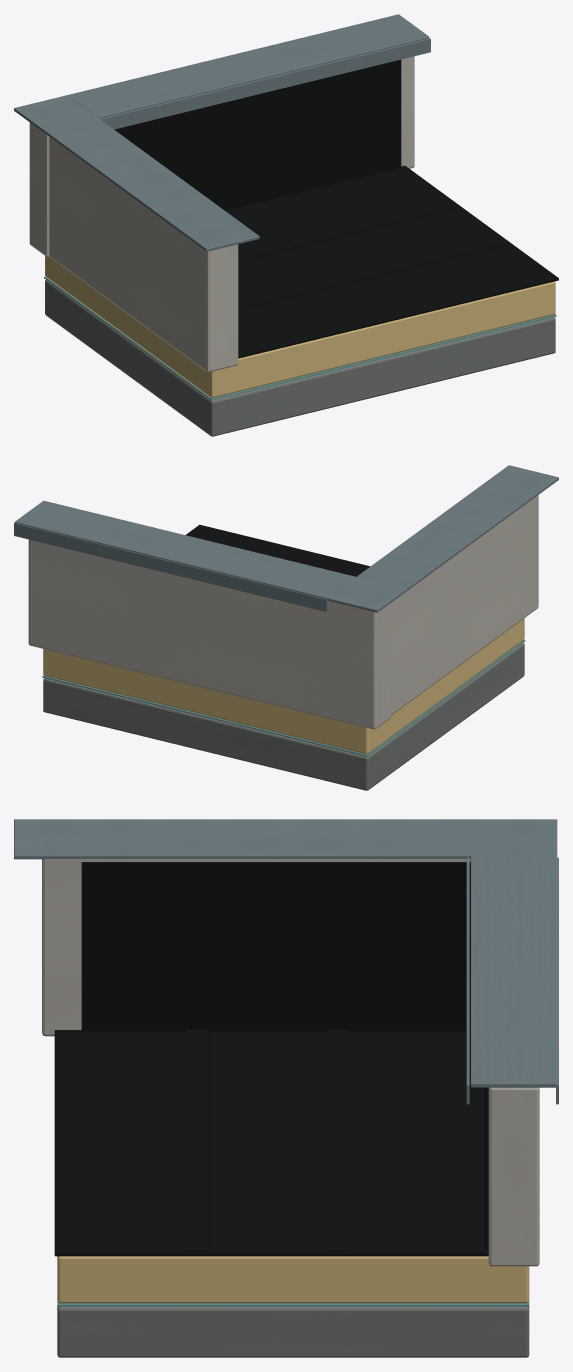
File: modell.glb
3 renders of one model, top to bottom at view 1: azimuth 30°, elevation 25°; view 2: azimuth 150°, elevation 25°; view 3: azimuth 270°, elevation 25°, orthographic. The views are drawn at different scales.
Parts seen in each view (by area): view 1: f05-abdichtung_deckung, f05-ecke_, f05-untergrund_tragwerk, f05-daemmung_daemmung, f05-abdeckung_, f05-ecke_.001, f05-naht_deckung, f05-attika_, f05-luftdichtheit_luftdichtheit; view 2: f05-attika_, f05-ecke_, f05-untergrund_tragwerk, f05-abdeckung_, f05-daemmung_daemmung, f05-ecke_.001, f05-abdichtung_deckung, f05-luftdichtheit_luftdichtheit; view 3: f05-abdichtung_deckung, f05-untergrund_tragwerk, f05-daemmung_daemmung, f05-ecke_.001, f05-abdeckung_, f05-naht_deckung, f05-attika_, f05-ecke_, f05-luftdichtheit_luftdichtheit.
Part boxes in pixels (bbox=[...]): f05-abdichtung_deckung: bbox=[114, 59, 558, 358]; f05-ecke_: bbox=[49, 137, 238, 372]; f05-untergrund_tragwerk: bbox=[45, 280, 555, 436]; f05-daemmung_daemmung: bbox=[45, 256, 555, 397]; f05-abdeckung_: bbox=[67, 14, 430, 129]; f05-ecke_.001: bbox=[14, 95, 259, 251]; f05-naht_deckung: bbox=[238, 201, 510, 309]; f05-attika_: bbox=[29, 56, 414, 256]; f05-luftdichtheit_luftdichtheit: bbox=[44, 276, 556, 400]; f05-attika_: bbox=[28, 539, 391, 729]; f05-ecke_: bbox=[391, 495, 538, 715]; f05-untergrund_tragwerk: bbox=[43, 643, 524, 790]; f05-abdeckung_: bbox=[14, 500, 355, 611]; f05-daemmung_daemmung: bbox=[43, 618, 524, 754]; f05-ecke_.001: bbox=[327, 465, 558, 612]; f05-abdichtung_deckung: bbox=[185, 524, 370, 576]; f05-luftdichtheit_luftdichtheit: bbox=[42, 640, 525, 756]; f05-abdichtung_deckung: bbox=[54, 862, 488, 1256]; f05-untergrund_tragwerk: bbox=[57, 1306, 529, 1357]; f05-daemmung_daemmung: bbox=[57, 1256, 529, 1303]; f05-ecke_.001: bbox=[14, 819, 557, 859]; f05-abdeckung_: bbox=[466, 856, 558, 1104]; f05-naht_deckung: bbox=[187, 1029, 348, 1251]; f05-attika_: bbox=[488, 1087, 539, 1266]; f05-ecke_: bbox=[42, 859, 470, 1036]; f05-luftdichtheit_luftdichtheit: bbox=[57, 1301, 529, 1306].
Bounding box in the file's own units: 2.45 × 1.25 × 2.14.
6 materials, 3 textured.
